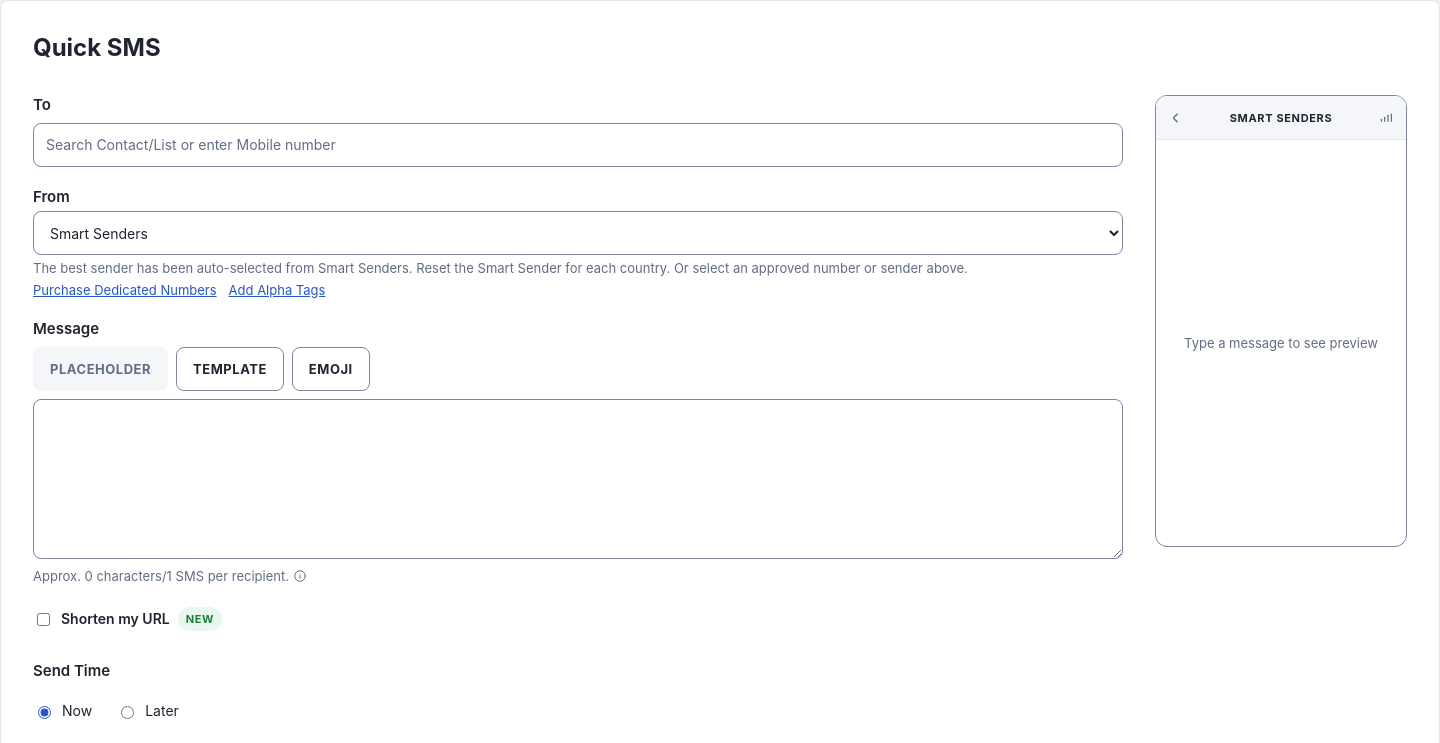
Test case: QuickSendScreen › accepts a typed number when contact search is unavailable
The width and height of the screenshot is (1440, 743).
Type "07411972333" into the field labelled "To". click: point(578, 145)
box: left=33, top=123, right=1123, bottom=167
Then press Enter
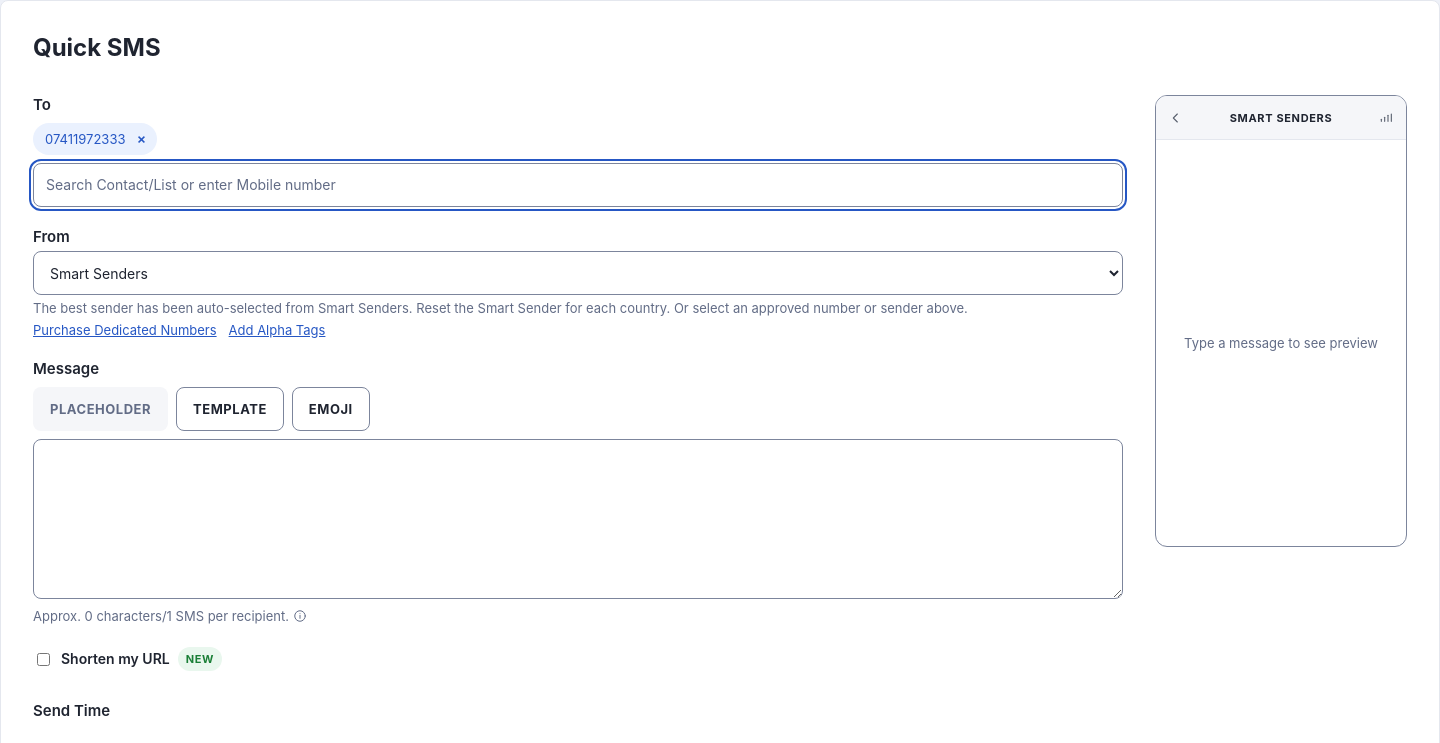
Expected: the button named "Remove 07411972333" is shown, left=130, top=127, right=154, bottom=151
